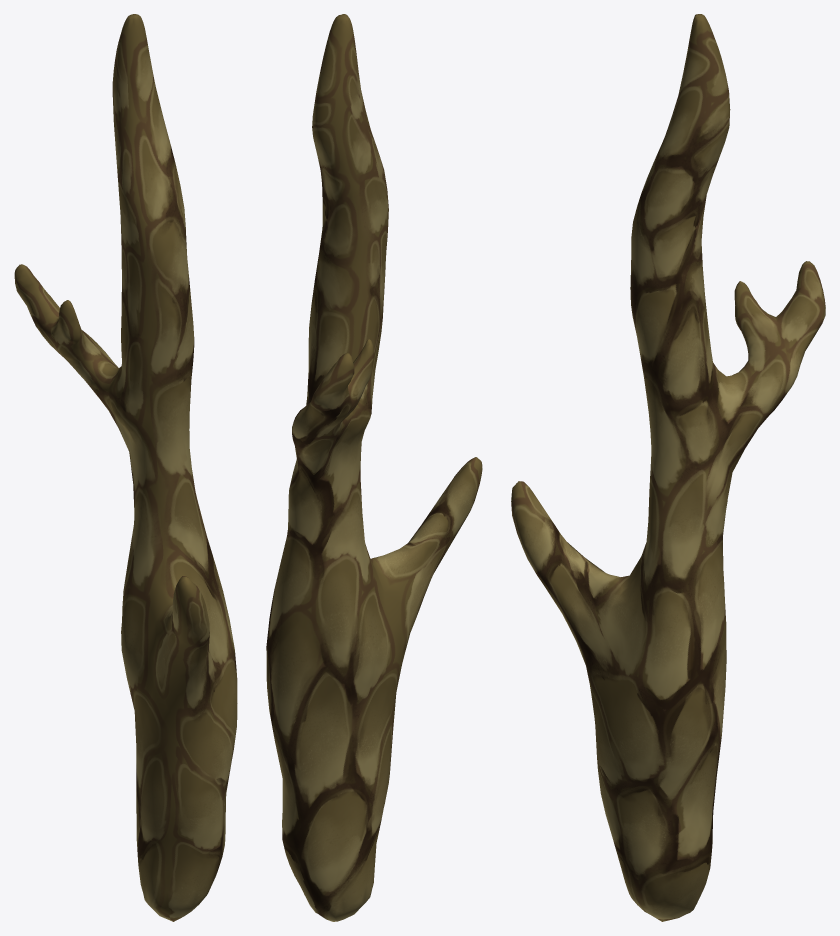
The model's file is branch4.fbx.
3 renders of one model, left to right at view 1: azimuth 30°, elevation 25°; view 2: azimuth 150°, elevation 25°; view 3: azimuth 270°, elevation 25°, orthographic. The views are drawn at different scales.
Parts seen in each view (by area): view 1: branch4; view 2: branch4; view 3: branch4.
Boxes of the visible parts, x1,y1,x2,y2 form: branch4: (14,14,237,921); branch4: (266,14,482,921); branch4: (511,14,825,921).
Bounding box in the file's own units: 147 × 865 × 275.
Materials: 1 (1 with a texture image).
